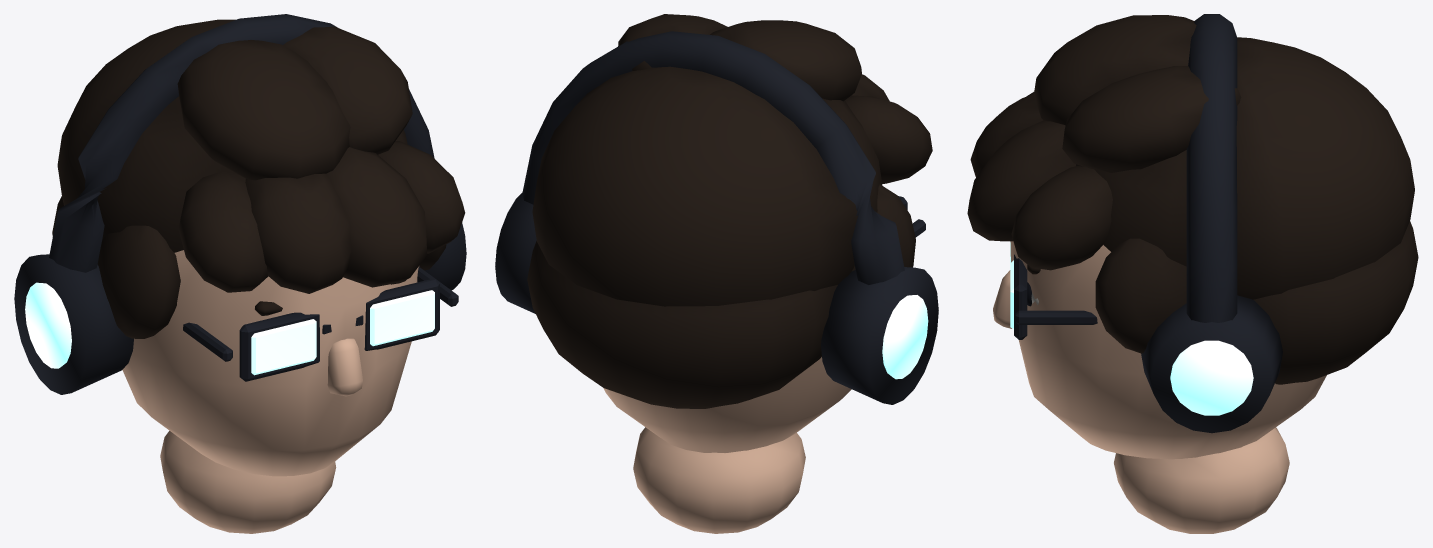
Rendered from coder_head.glb.
The picture shows the model from 3 angles, left to right: view 1: azimuth 30°, elevation 25°; view 2: azimuth 150°, elevation 25°; view 3: azimuth 270°, elevation 25°; orthographic projection.
Parts seen in each view (by area): view 1: CoderPart; view 2: CoderPart; view 3: CoderPart.
Boxes of the visible parts, bbox=[...] form: CoderPart: bbox=[14, 14, 466, 533]; CoderPart: bbox=[495, 14, 938, 533]; CoderPart: bbox=[967, 14, 1418, 533].
Bounding box in the file's own units: 0.264 × 0.3213 × 0.2664.
